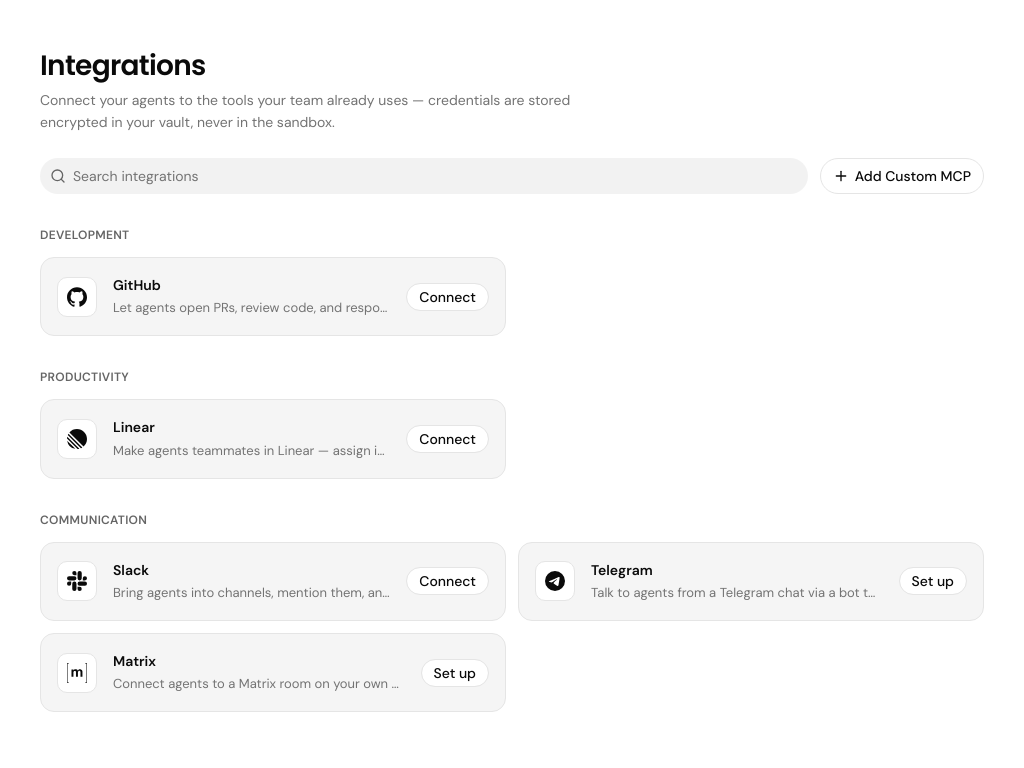
<IntegrationsHub /> › filters rows by the search box
Expected: the link "Connect" in the row of "GitHub" is shown, x1=406 y1=283 x2=489 y2=311
Type "slack" into the search field labelled "Search integrations" at (424, 176), box x1=40 y1=158 x2=808 y2=194
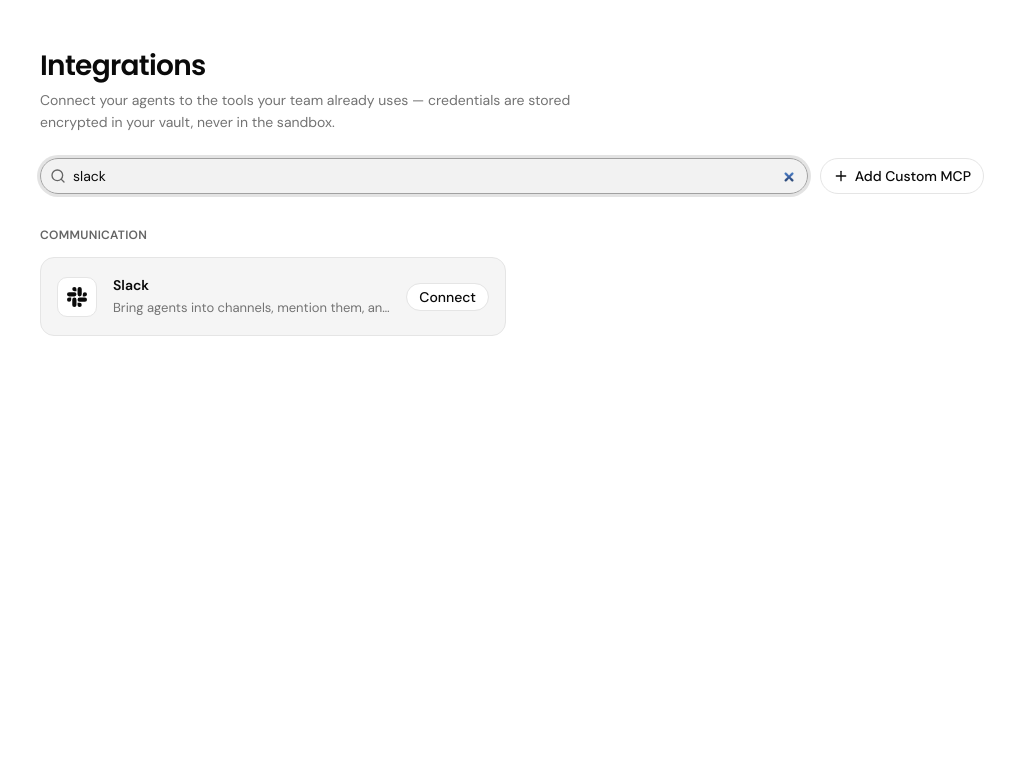
Expected: the element with test id "integration-slack" is shown, x1=40 y1=257 x2=506 y2=336
Now the element with test id "integration-github" is gone
